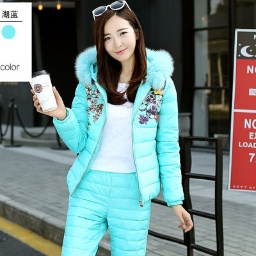face: (91, 7, 147, 87)
